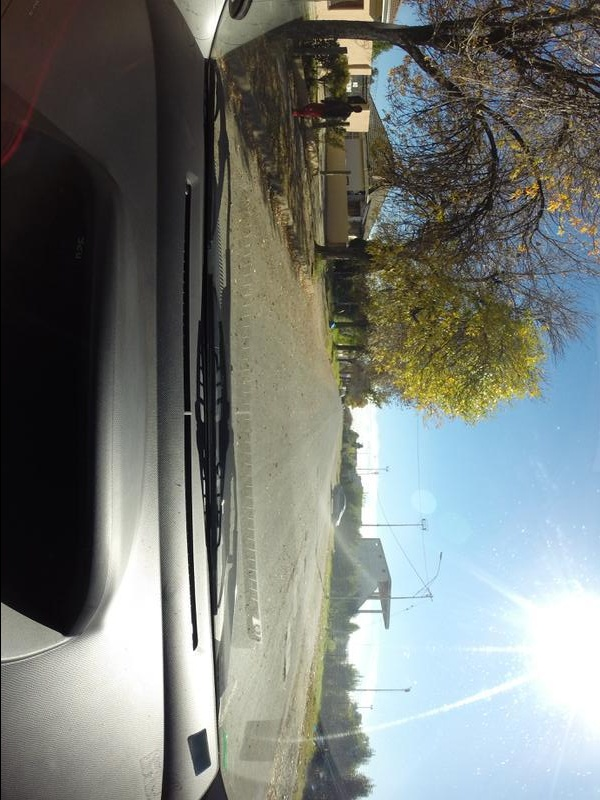pothole: (280, 657, 287, 683), (280, 630, 287, 649), (303, 557, 307, 580), (302, 531, 307, 548)
